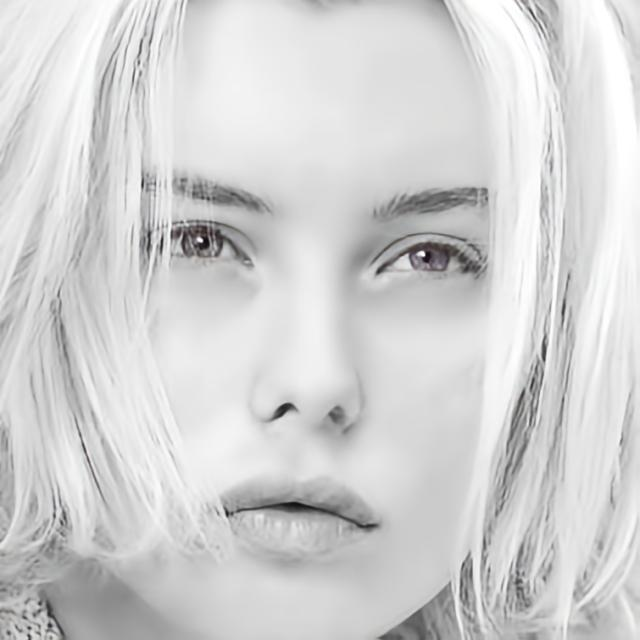neutral: (71, 0, 499, 640)
